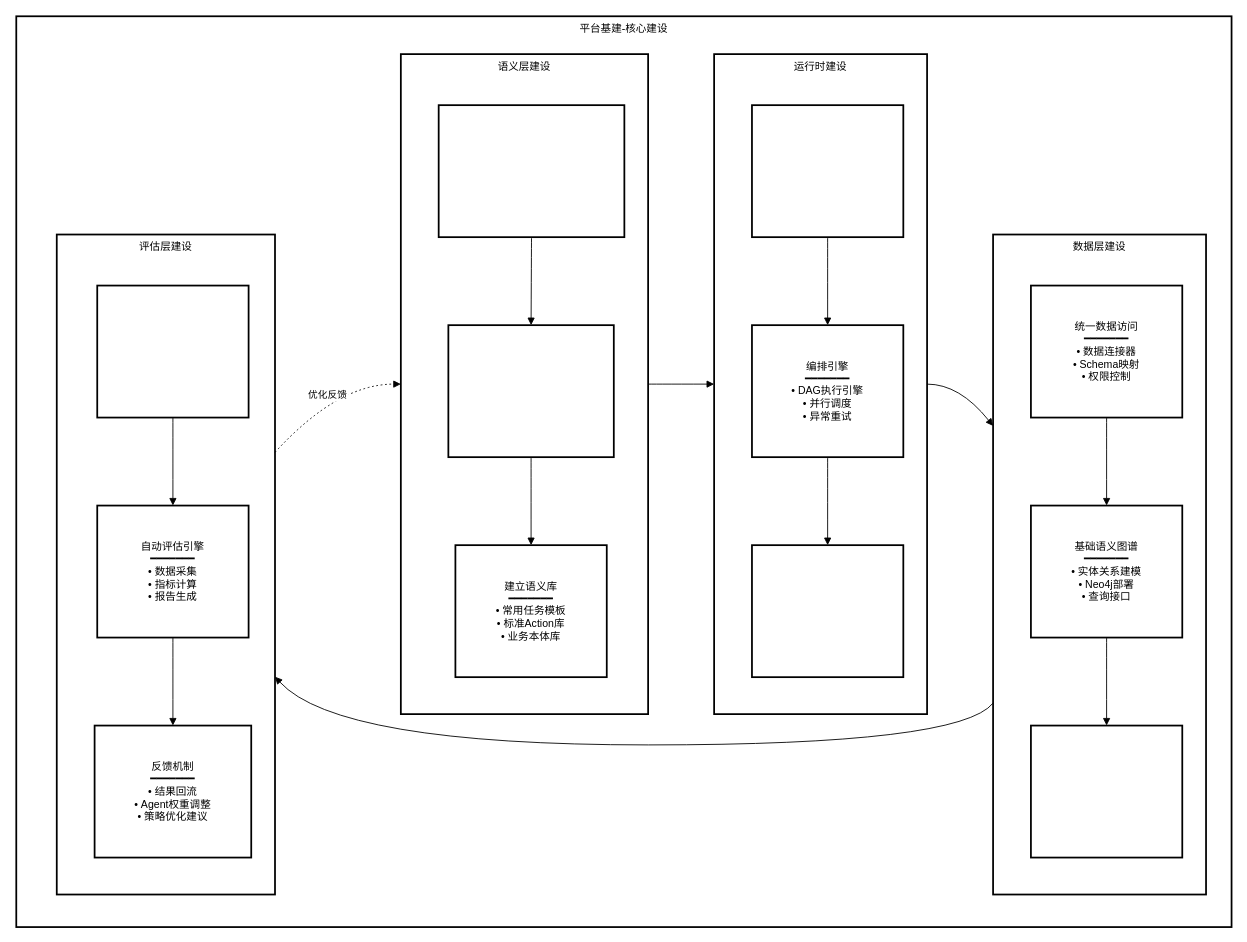
Image size: 1247x942. Some labels were removed from this diagram. The centre of each missing label's shape, as x and y in pixels:
"Agent Registry ━━━━━━━ • 能力注册接口 • 元数据管理 • 版本控制" belongs at (827,171).
"KPI映射框架 ━━━━━━━ • 指标定义DSL • Reward公式 • 权重配置" belongs at (172,351).
"上下文管理 ━━━━━━━ • Redis缓存 • Context API • 事件流" belongs at (1106,791).
"制定语义Schema标准 ━━━━━━━ • Mission Schema • Task Schema • Action Schema" belongs at (531,171).
"开发语义建模工具 ━━━━━━━ • 可视化建模界面 • Schema验证器 • 版本管理" belongs at (530,391).
"状态管理 ━━━━━━━ • Context Store • Session管理 • 持久化" belongs at (827,611).
